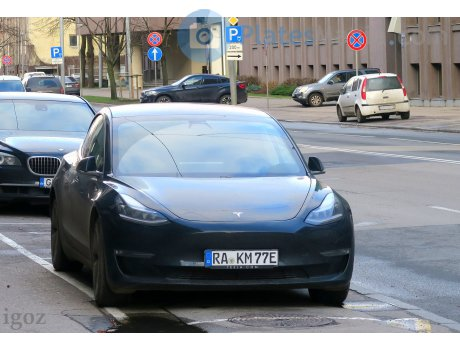License Plates: (205, 247, 280, 264)
